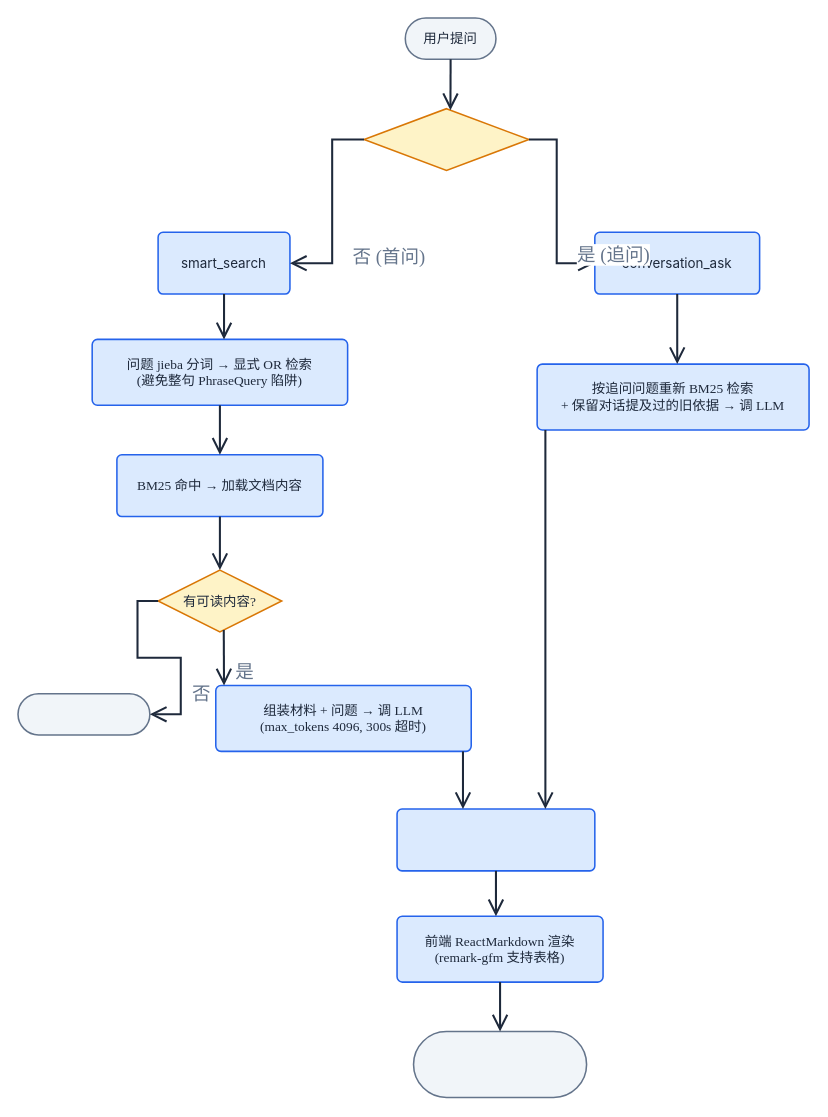
Some shapes in this 828 by 1117 pixel diagram are drawn without their labels. Each missing label, with the centre of its shape:
"会话中已有来源文件?" belongs at (x=446, y=139).
"回答写入会话并持久化 chat_history.json" belongs at (x=499, y=1064).
"提示无相关内容" belongs at (x=83, y=713).
"返回回答 + 来源文件列表" belongs at (x=495, y=839).
